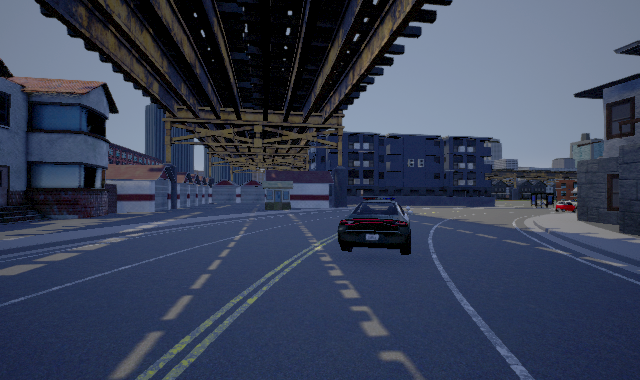vehicle: (337, 197, 413, 255)
